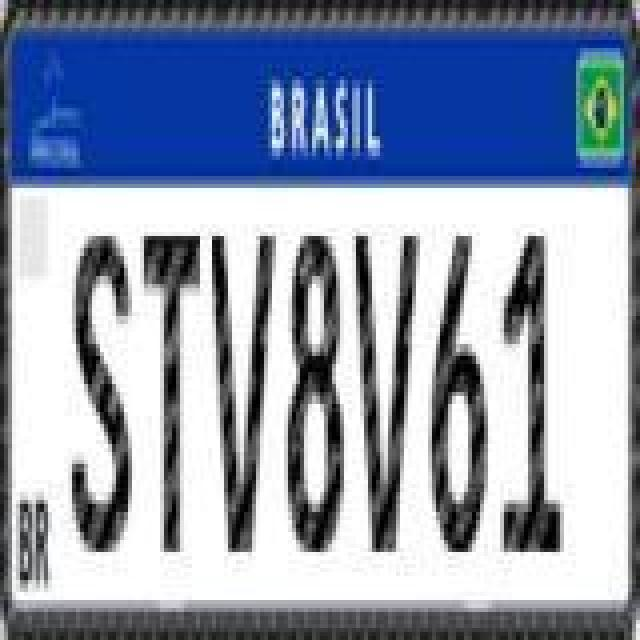1: (500, 224, 564, 560)
6: (428, 226, 492, 558)
8: (284, 228, 348, 556)
S: (72, 228, 136, 556)
T: (140, 226, 204, 558)
V: (206, 226, 274, 558), (350, 228, 418, 556)
